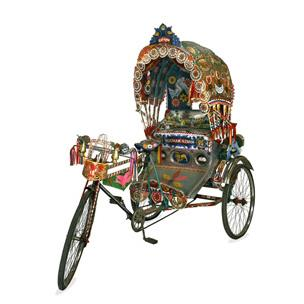Rickshaw: (47, 22, 255, 291)
